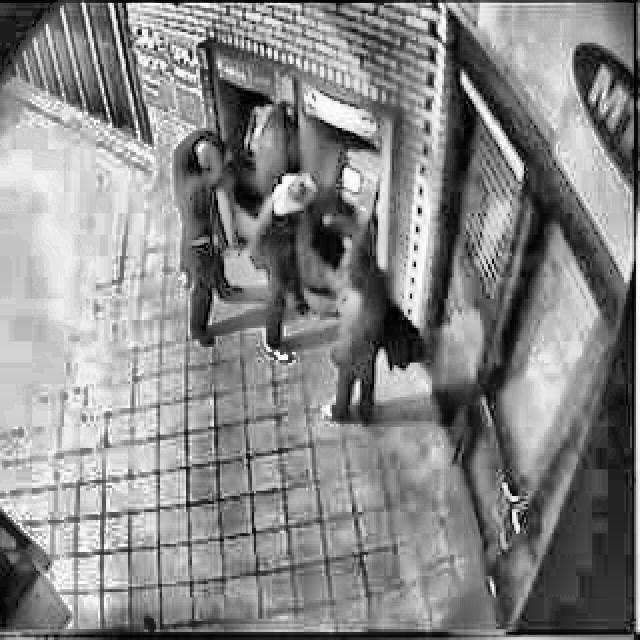burglary: (166, 86, 430, 430)
